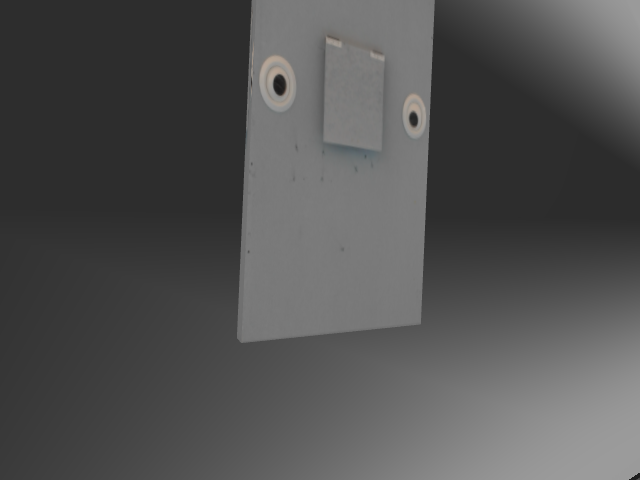facade: (254, 31, 429, 157)
